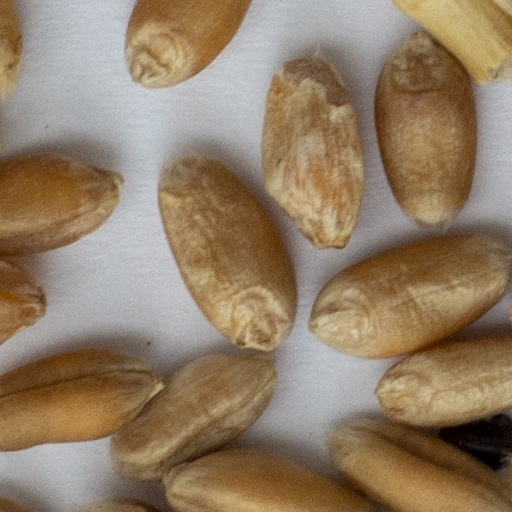Fallopia-Сonvolvulus-poly: (440, 416, 511, 456)
Peel-poly: (396, 0, 511, 79)
